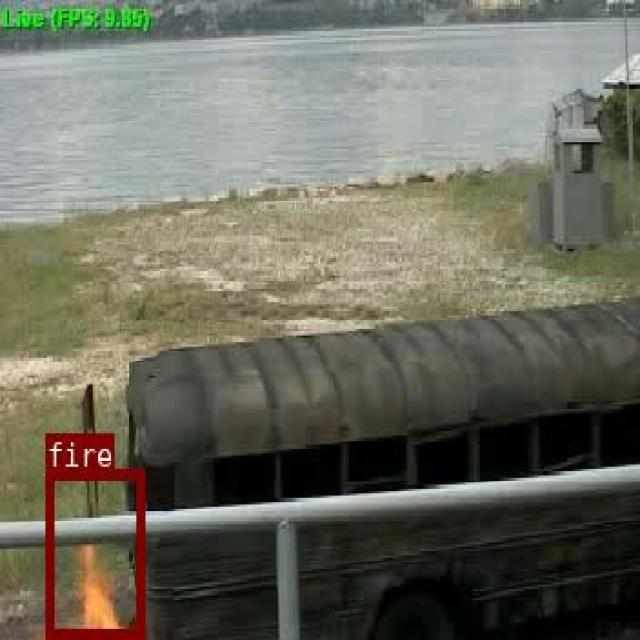fire: (44, 469, 142, 636)
